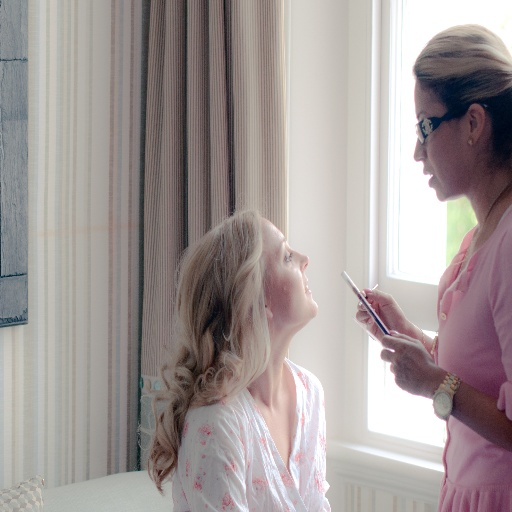hand: (353, 284, 437, 374), (379, 329, 435, 395)
